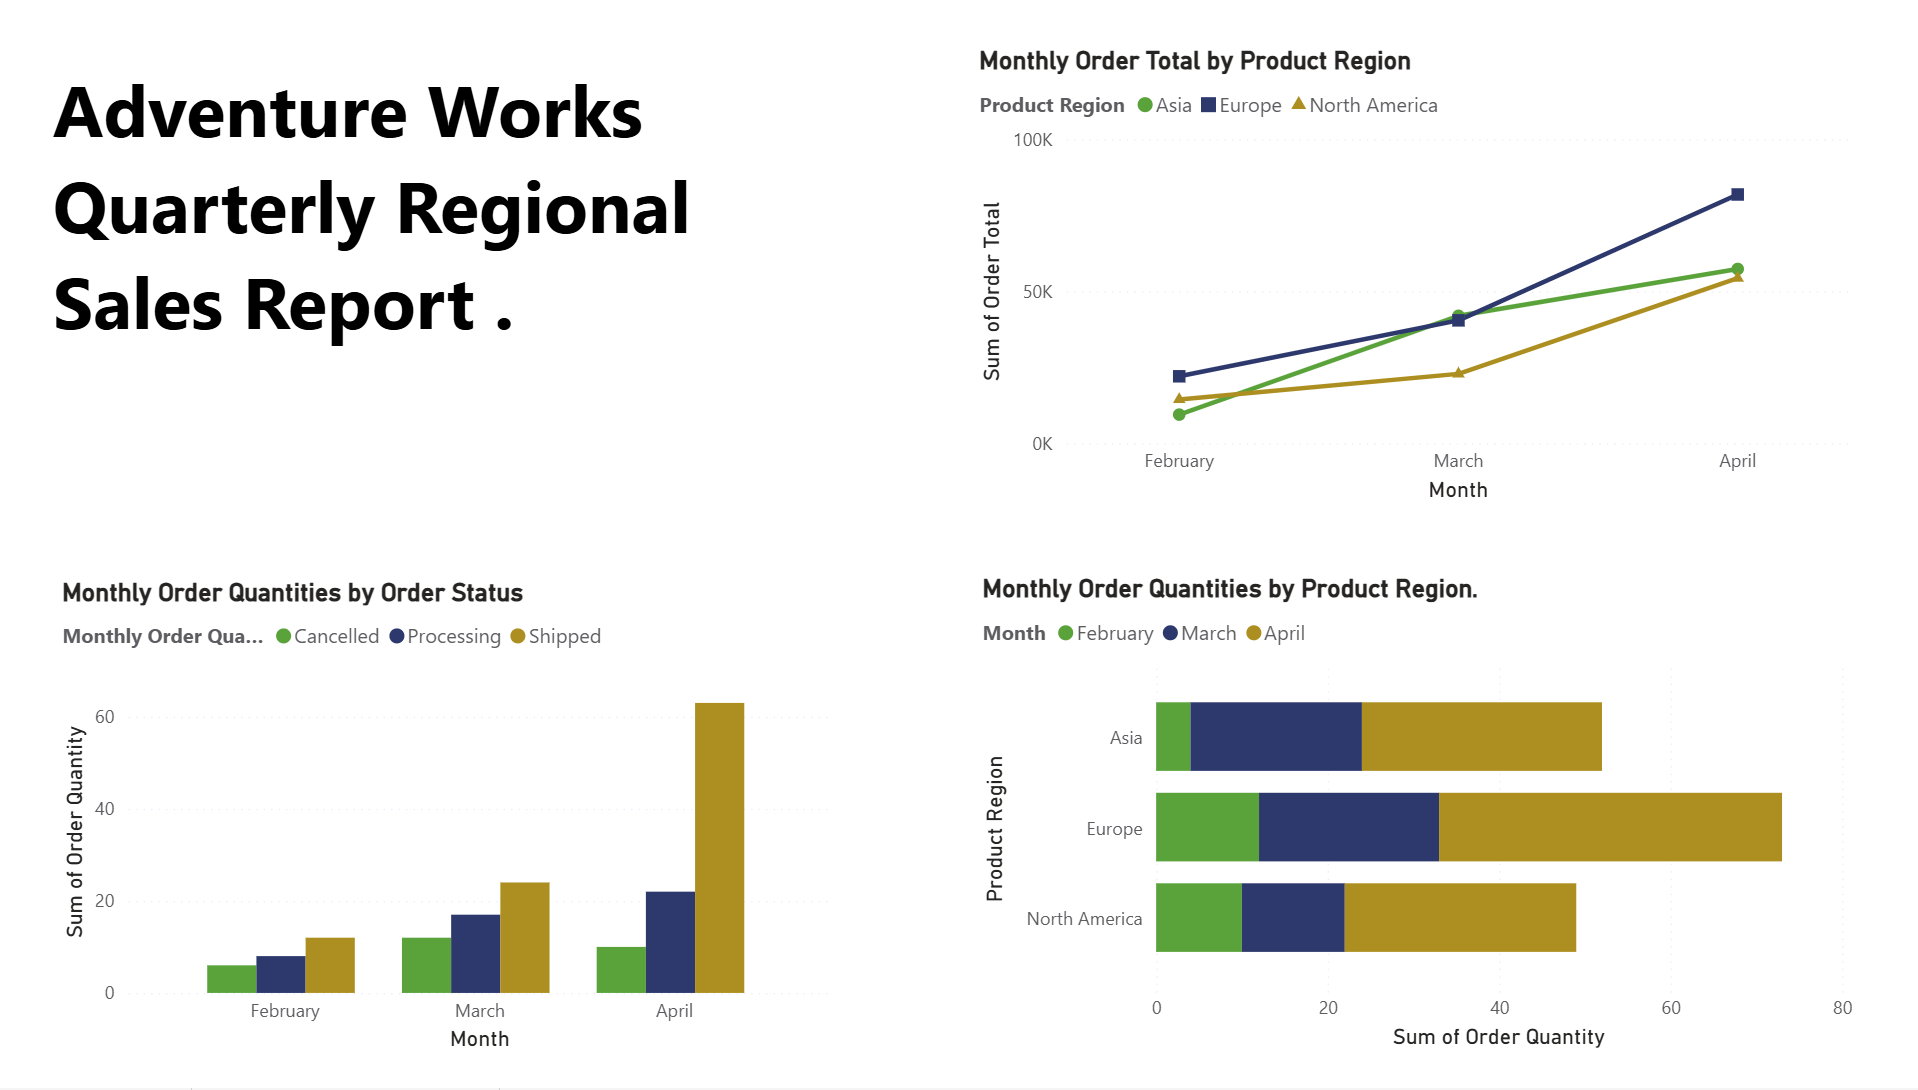

What the dashboard file says about the page in this screenshot:
{"tool":"powerbi","page":{"name":"Page 1","canvas":[1280,720],"ordinal":0},"visuals":[{"type":"barChart","title":"Monthly Order Quantities by Product Region.","fields":{"Category":["Sales.Product Region"],"Y":["Sum(Sales.Order Quantity)"],"Series":["Sales.Order Date.Variation.Date Hierarchy.Month"]},"box":[649.7,382.6,589.9,321.4],"z":500},{"type":"lineChart","title":"Monthly Order Total by Product Region","fields":{"Category":["Sales.Month"],"Y":["Sum(Sales.Order Total)"],"Series":["Sales.Product Region"]},"box":[648.3,30.6,589.9,308.9],"z":1000},{"type":"clusteredColumnChart","title":"Monthly Order Quantities by Order Status","fields":{"Category":["Sales.Month"],"Y":["Sum(Sales.Order Quantity)"],"Series":["Sales.Order Status"]},"box":[36,384,522,321],"z":2000},{"type":"textbox","box":[30.2,34.9,522.1,310.5],"z":3500}]}

Visuals, with their boxes in screenshot pixels (x1, y1, x2, y2), scaled from the page's 1280x720 canvas onto the 1918x1090 screenshot:
"Monthly Order Quantities by Product Region." barChart: [974, 579, 1857, 1066]
"Monthly Order Total by Product Region" lineChart: [971, 46, 1855, 514]
"Monthly Order Quantities by Order Status" clusteredColumnChart: [54, 581, 836, 1067]
textbox: [45, 53, 828, 523]
